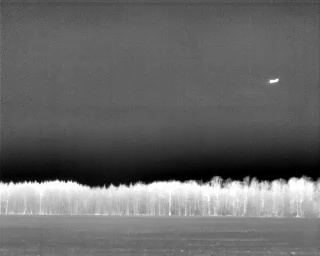DRONE: (265, 74, 283, 88)
